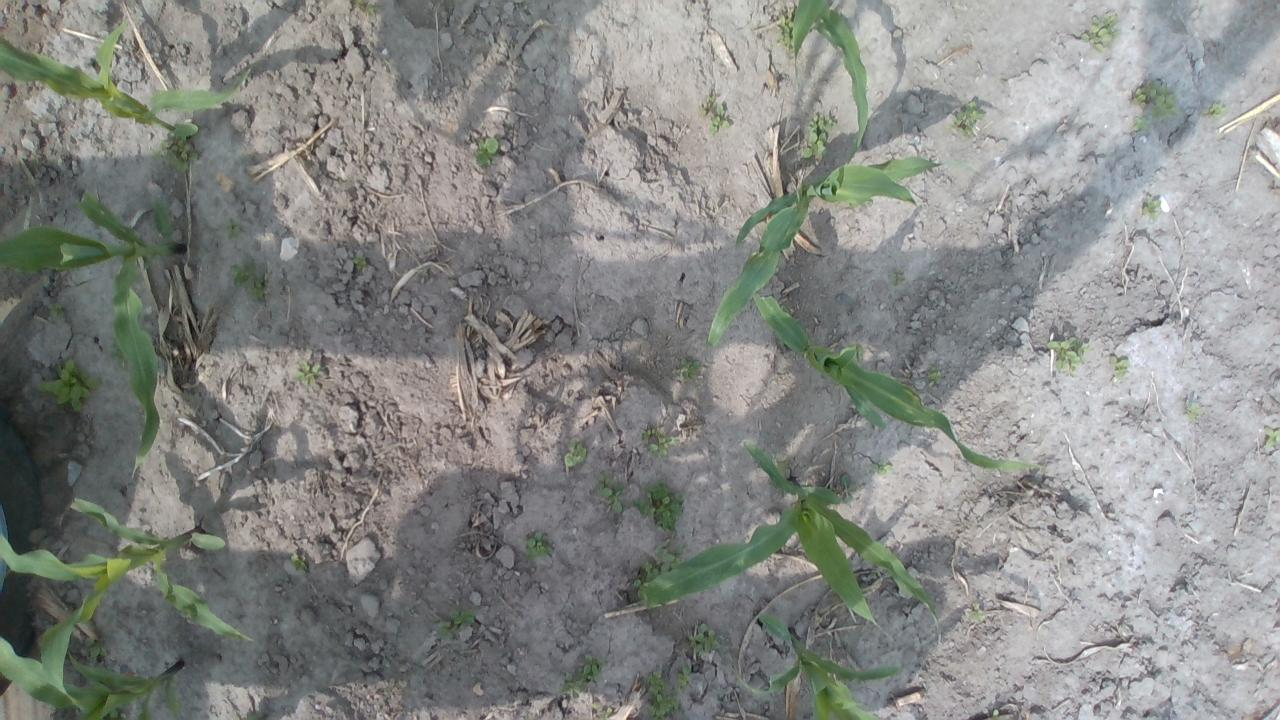Maize: (637, 441, 939, 632), (0, 190, 188, 478), (0, 494, 248, 708), (751, 292, 1038, 475), (703, 154, 939, 342), (0, 21, 256, 140), (756, 608, 900, 720), (0, 635, 185, 720), (788, 0, 874, 153)
Weeds: (33, 356, 103, 415), (629, 478, 687, 532), (1130, 80, 1180, 121), (640, 670, 679, 720), (560, 654, 602, 698), (1046, 336, 1095, 373), (800, 114, 838, 160), (1080, 12, 1119, 54), (154, 138, 200, 173), (230, 260, 267, 300), (947, 99, 984, 138), (700, 95, 730, 138), (434, 608, 475, 638), (641, 427, 679, 458), (688, 624, 722, 656), (597, 474, 624, 513), (654, 541, 684, 575), (775, 15, 795, 57), (526, 530, 552, 561), (294, 360, 322, 387), (564, 439, 589, 469), (474, 137, 499, 166), (670, 358, 701, 381), (82, 638, 109, 659), (839, 472, 855, 505), (1109, 354, 1129, 380), (1141, 196, 1161, 222), (629, 578, 647, 605), (223, 214, 241, 241), (676, 663, 692, 691), (886, 270, 908, 289), (639, 560, 659, 580), (112, 346, 130, 368), (1207, 102, 1227, 121), (46, 302, 66, 321), (1262, 426, 1280, 447), (1185, 402, 1203, 423), (290, 553, 308, 574), (926, 367, 941, 386), (872, 462, 892, 476), (364, 3, 384, 17), (966, 607, 986, 621), (353, 255, 368, 272), (1134, 118, 1148, 130), (991, 708, 1001, 718)
